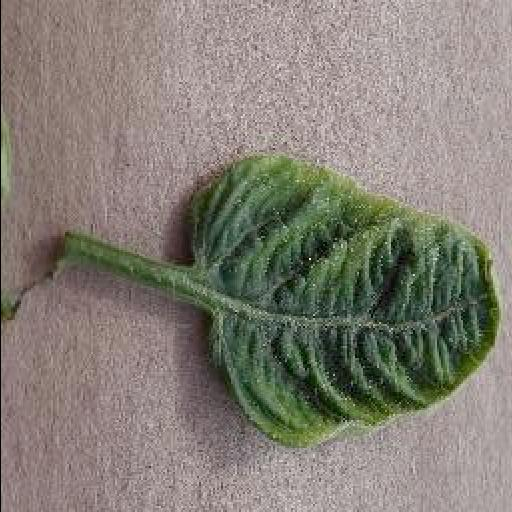disease_tomato: (185, 154, 503, 450)
